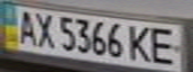3: (72, 16, 93, 54)
5: (54, 14, 78, 52)
6: (106, 20, 127, 60), (90, 19, 109, 57)
A: (12, 7, 39, 46)
E: (145, 25, 187, 68)
K: (124, 22, 154, 63)
X: (30, 10, 57, 49)
